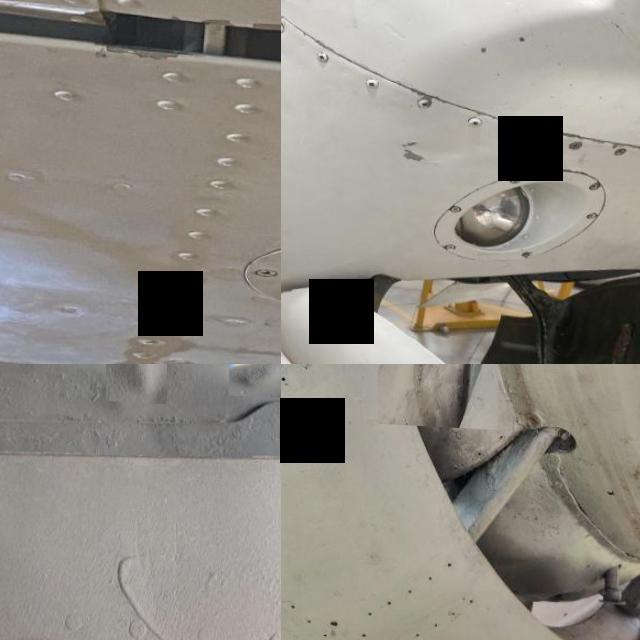Dent: (377, 364, 498, 426), (105, 364, 167, 401), (228, 364, 281, 394), (381, 18, 408, 38), (385, 36, 395, 44), (501, 96, 512, 102), (528, 78, 536, 84), (620, 111, 628, 117), (405, 14, 413, 20), (435, 19, 444, 24), (556, 68, 563, 74), (546, 62, 553, 68), (412, 30, 419, 36), (350, 21, 357, 27), (556, 84, 564, 89), (369, 0, 379, 4), (538, 80, 544, 86), (446, 52, 452, 58), (447, 73, 453, 79), (376, 24, 382, 30), (538, 90, 544, 95), (518, 98, 524, 103), (552, 109, 558, 114), (534, 106, 541, 110), (558, 100, 563, 104), (578, 99, 584, 102)
